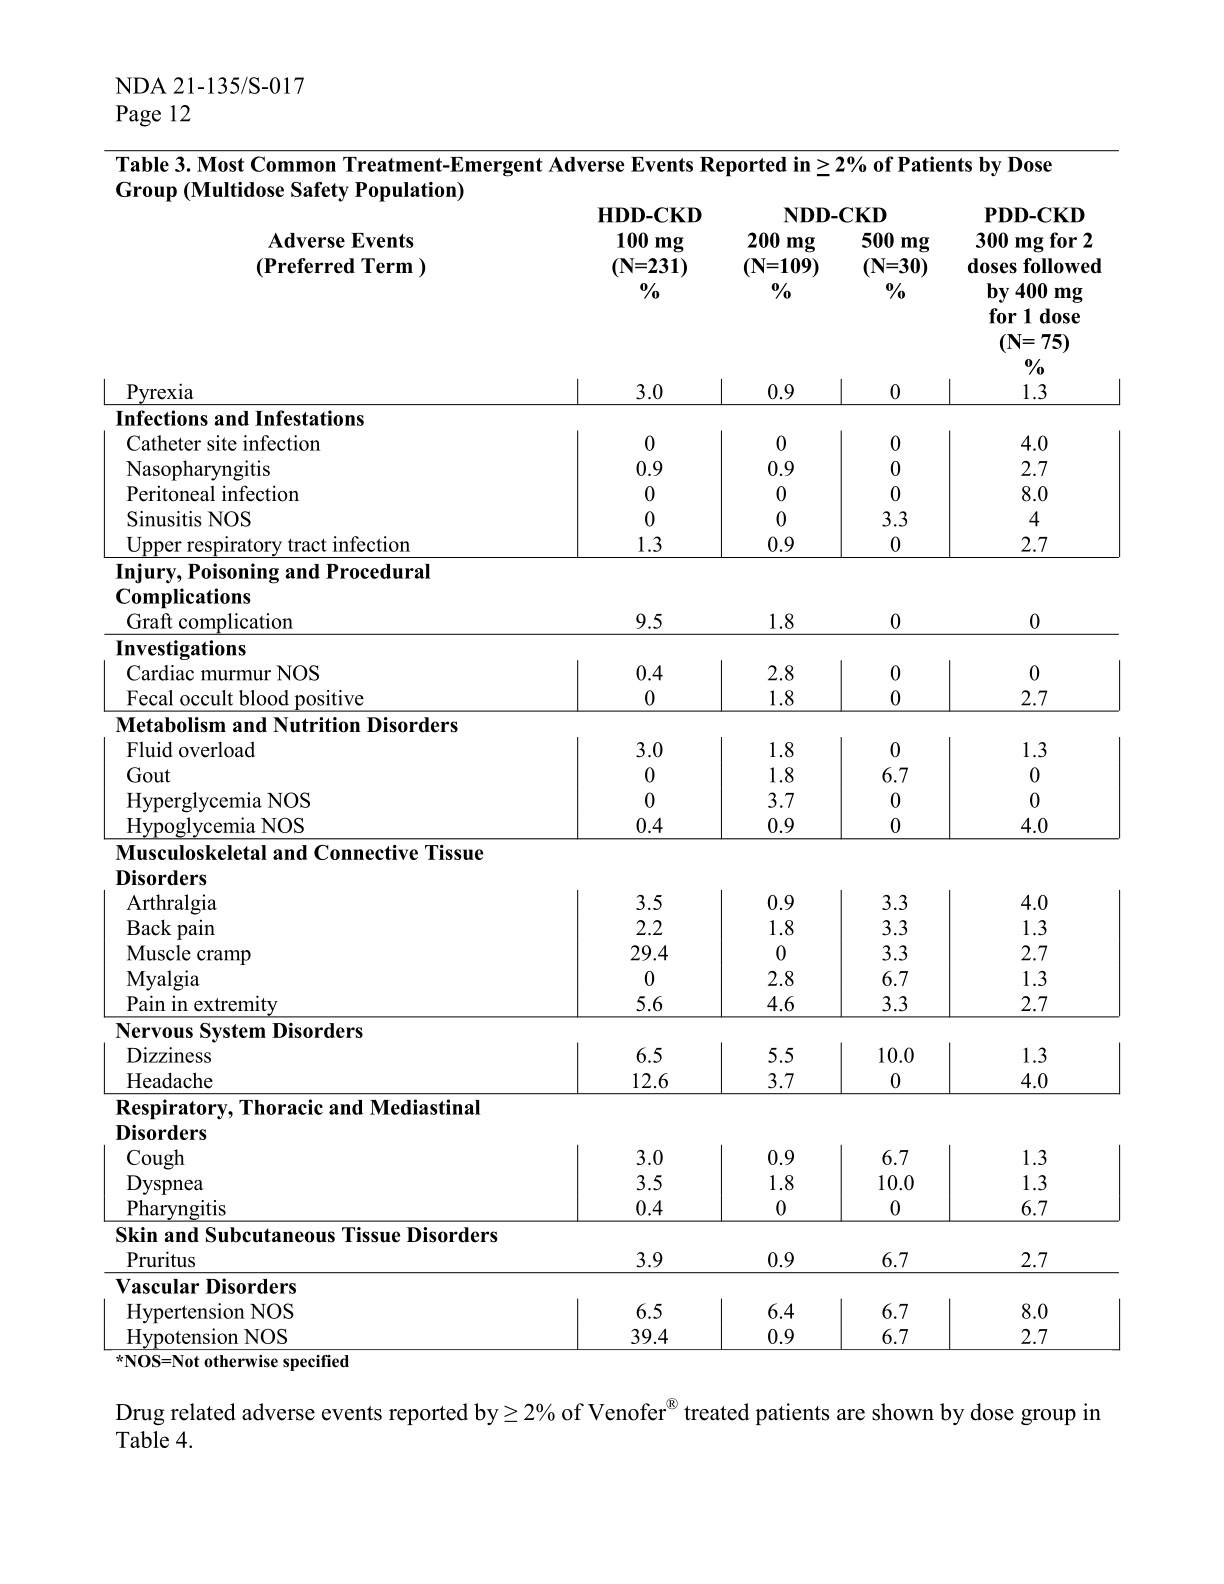partial_lined_merged_cells: (102, 204, 1122, 1353)
